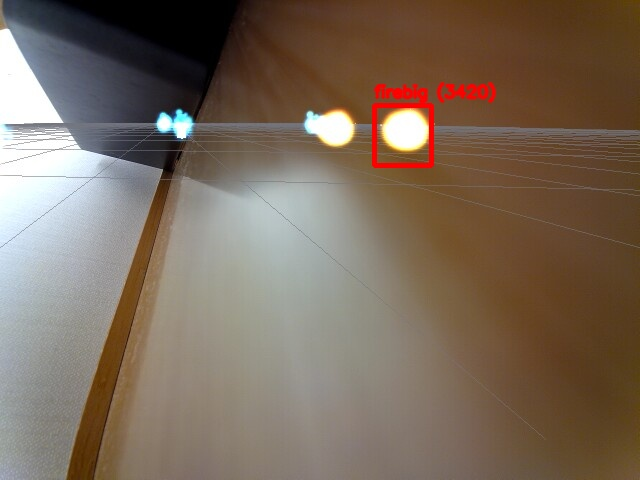firebig: (374, 105, 431, 165)
